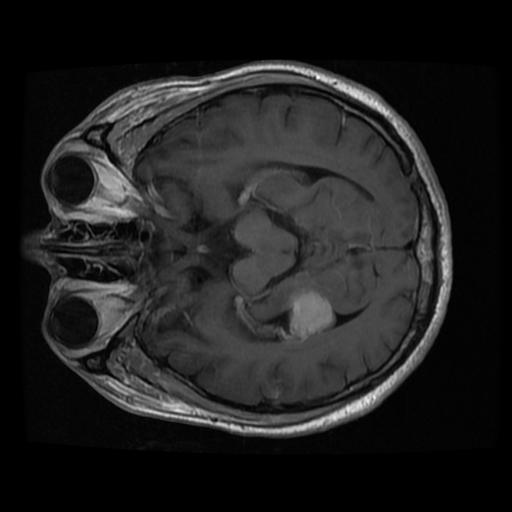meningioma: (288, 290, 334, 341)
